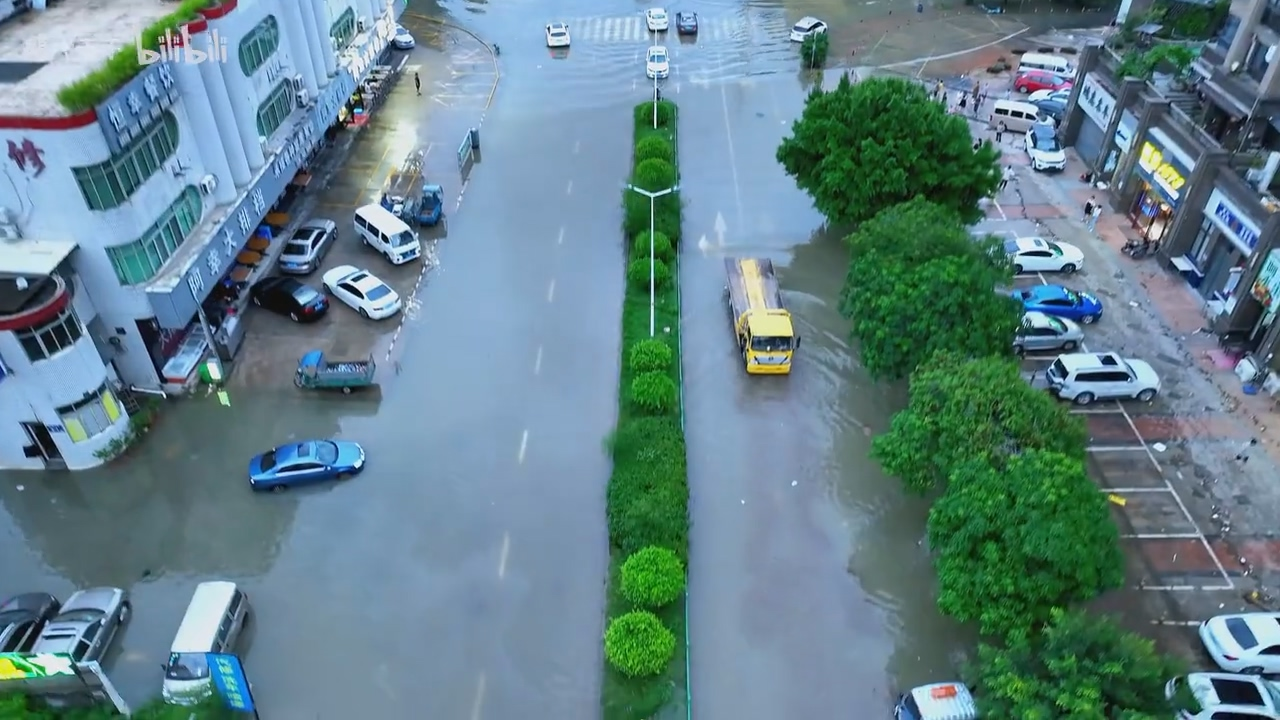puddle: (414, 161, 922, 720)
